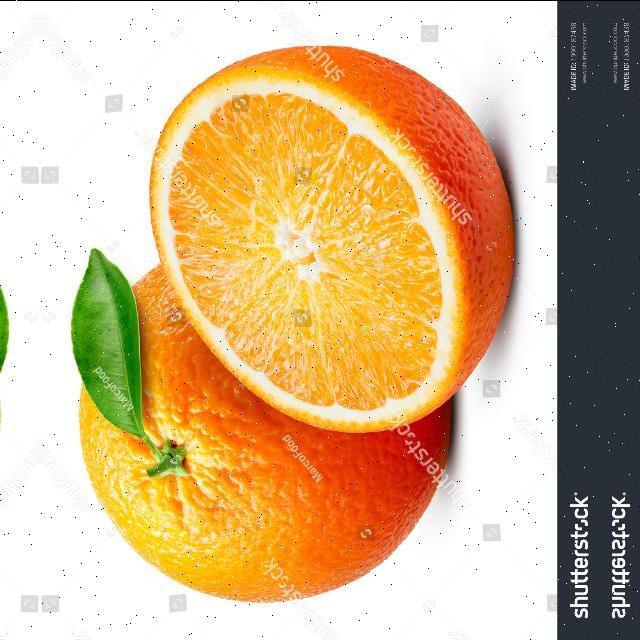Orange: (76, 261, 453, 604)
